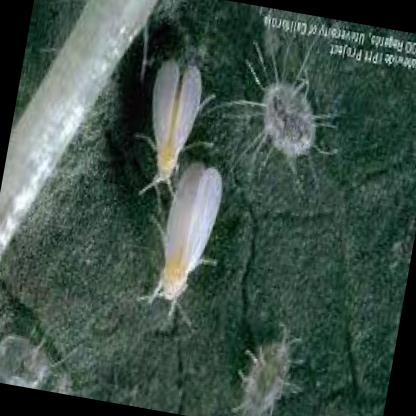whitefly: (161, 160, 224, 304), (151, 60, 201, 177)
